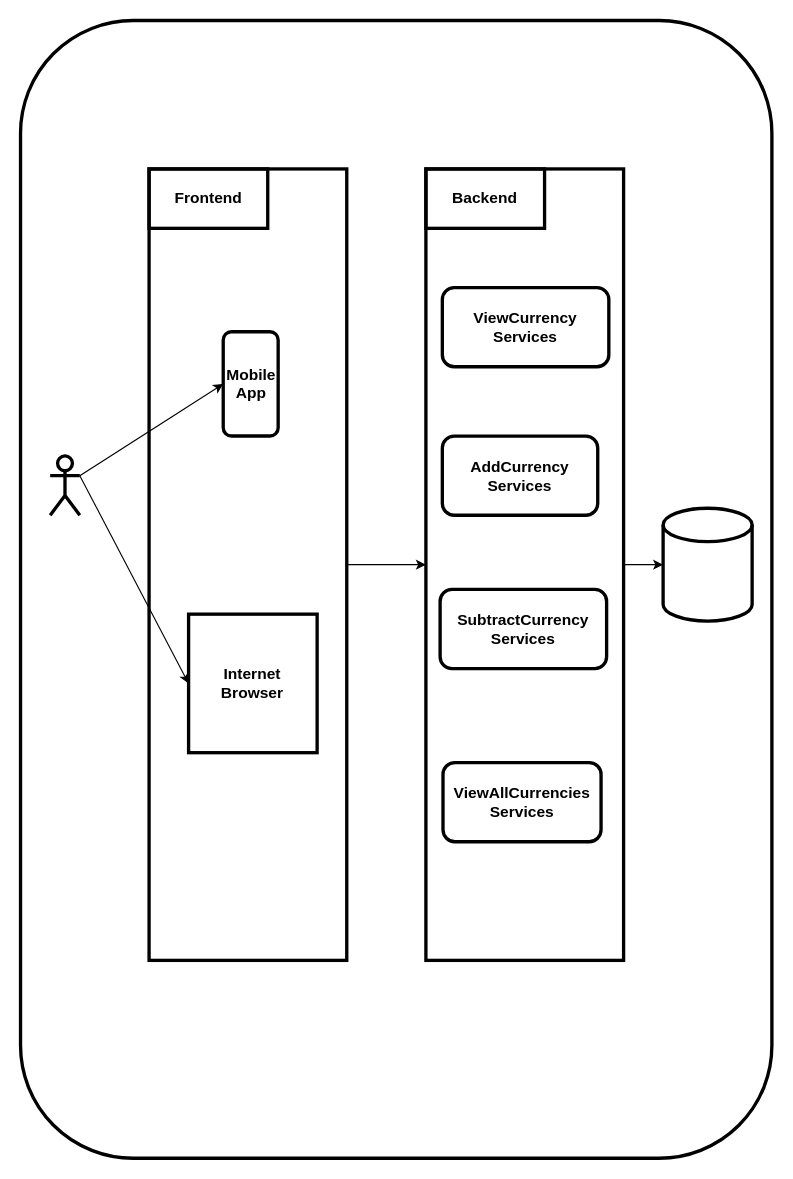
The diagram is 793 pixels wide and 1179 high, and some of its shapes have lost their labels. The centre of each missing label's shape, as x and y in pixels:
Client: pixel 64 485
Database: pixel 707 564
